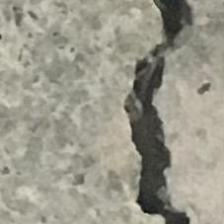Crack: (74, 0, 224, 224)
